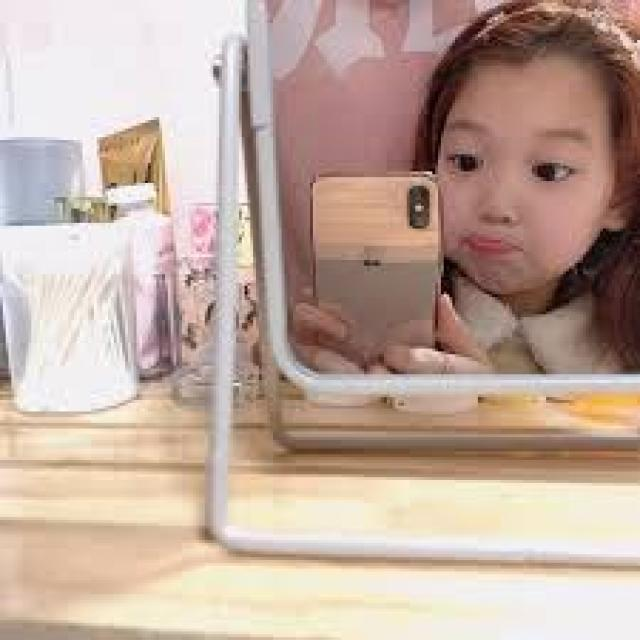Phone: (307, 171, 447, 363)
